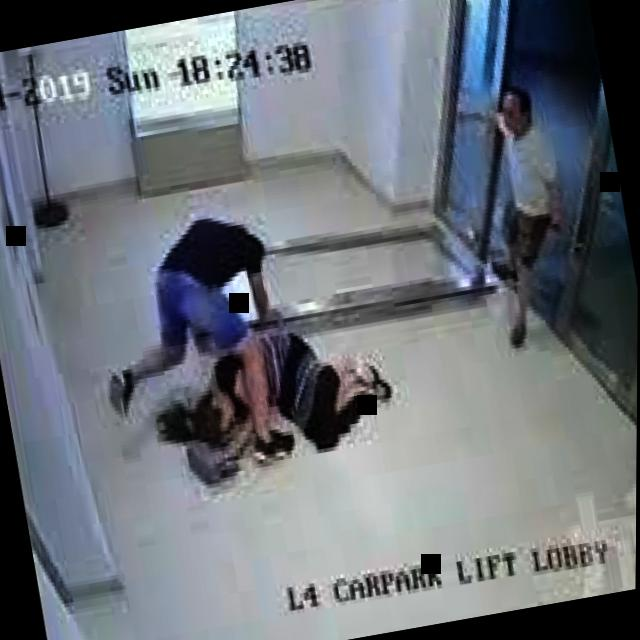Fall-Detected: (170, 278, 410, 482)
